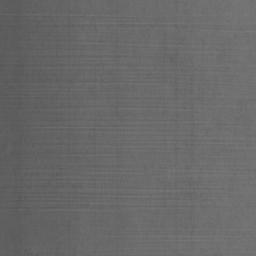Waist folding: (0, 107, 256, 212), (0, 12, 256, 87), (154, 234, 256, 256), (190, 92, 256, 100), (29, 251, 63, 256)
